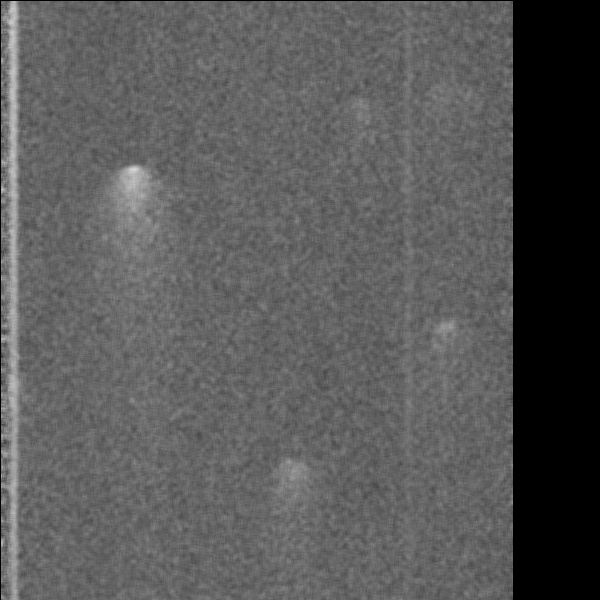spark: (112, 156, 154, 279), (276, 455, 310, 522), (425, 314, 461, 342)
